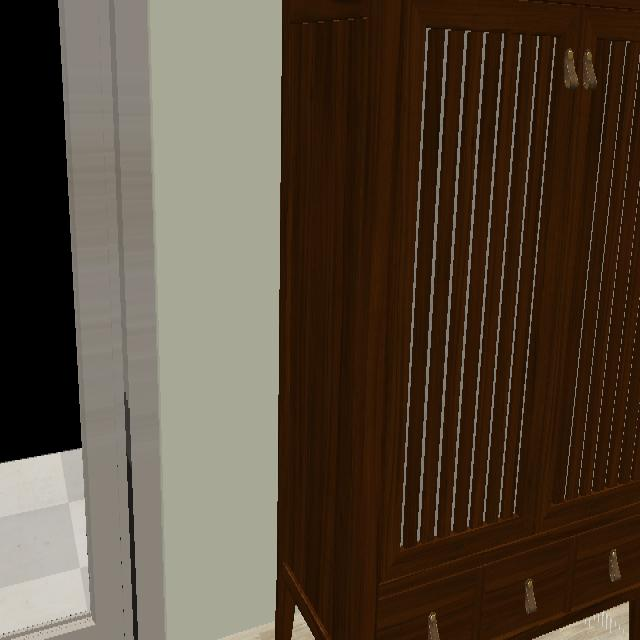wardrobe: (276, 0, 640, 640)
